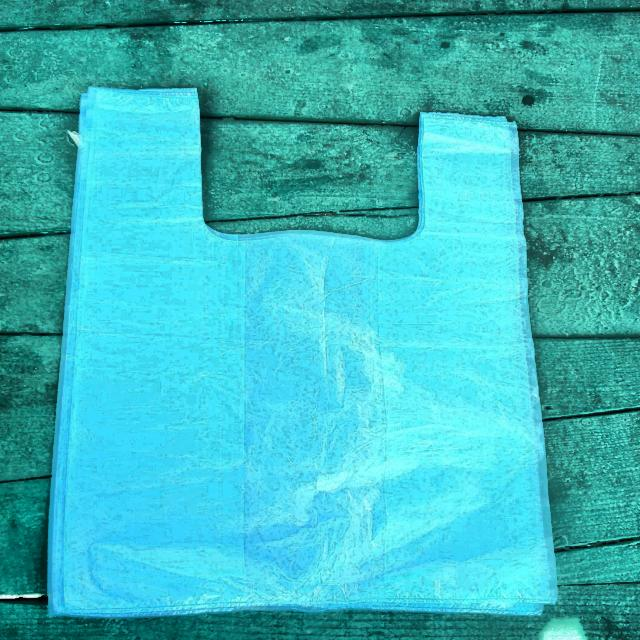Plastic: (50, 79, 576, 640)
